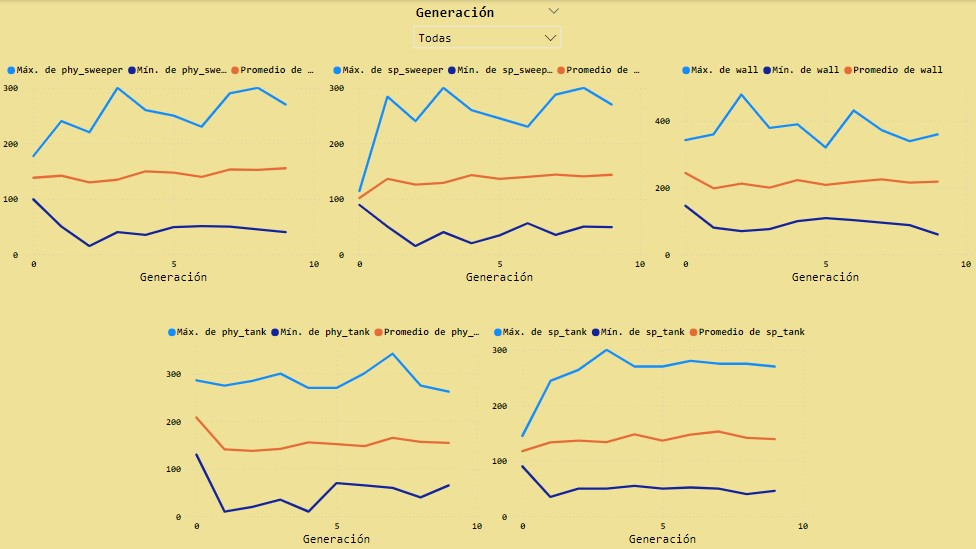

The dashboard page shown, as its layout file describes it:
{"tool":"powerbi","page":{"name":"Competitivo/Generación","canvas":[1280,720],"ordinal":5},"visuals":[{"type":"lineChart","fields":{"Category":["poke.generation"],"Y":["Max(poke.phy_sweeper)","Min(poke.phy_sweeper)","Avg(poke.phy_sweeper)"]},"box":[0,72,426.8,305],"z":0},{"type":"lineChart","fields":{"Category":["poke.generation"],"Y":["Max(poke.wall)","Min(poke.wall)","Avg(poke.wall)"]},"box":[853.5,72,426.8,305],"z":1000},{"type":"lineChart","fields":{"Category":["poke.generation"],"Y":["Max(poke.sp_sweeper)","Min(poke.sp_sweeper)","Avg(poke.sp_sweeper)"]},"box":[426.8,72,426.8,305],"z":2000},{"type":"lineChart","fields":{"Category":["poke.generation"],"Y":["Max(poke.phy_tank)","Min(poke.phy_tank)","Avg(poke.phy_tank)"]},"box":[213.4,415,426.8,305],"z":3000},{"type":"lineChart","fields":{"Category":["poke.generation"],"Y":["Max(poke.sp_tank)","Min(poke.sp_tank)","Avg(poke.sp_tank)"]},"box":[640.1,415,426.8,305],"z":4000},{"type":"slicer","fields":{"Values":["poke.generation","poke.number"]},"box":[532.8,0,213.4,72],"z":5000}]}

Visuals, with their boxes in screenshot pixels (x1, y1, x2, y2), scaled from the page's 1280x720 canvas onto the 976x549 screenshot:
lineChart - poke.generation x Max(poke.phy_sweeper): 0:55:325:287
lineChart - poke.generation x Max(poke.wall): 651:55:975:287
lineChart - poke.generation x Max(poke.sp_sweeper): 325:55:651:287
lineChart - poke.generation x Max(poke.phy_tank): 163:316:488:548
lineChart - poke.generation x Max(poke.sp_tank): 488:316:814:548
slicer - poke.generation x poke.number: 406:0:569:55
